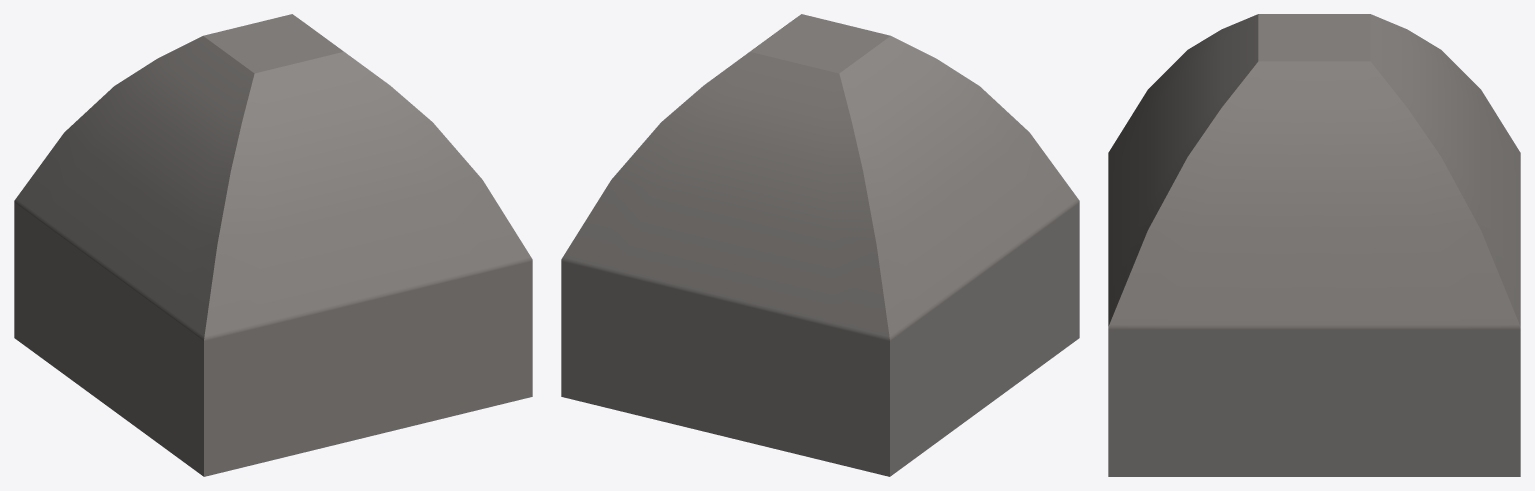
File: towerTop.fbx
The picture shows the model from 3 angles, left to right: view 1: azimuth 30°, elevation 25°; view 2: azimuth 150°, elevation 25°; view 3: azimuth 270°, elevation 25°; orthographic projection. The views are drawn at different scales.
Visible parts, largest first — view 1: pCube2; view 2: pCube2; view 3: pCube2.
Part boxes in pixels (x1,y1,x2,y2): pCube2: (14, 14, 532, 476); pCube2: (561, 14, 1079, 476); pCube2: (1108, 14, 1520, 476).
Bounding box in the file's own units: 10 × 9.42 × 10.
Materials: 1 (1 with a texture image).
